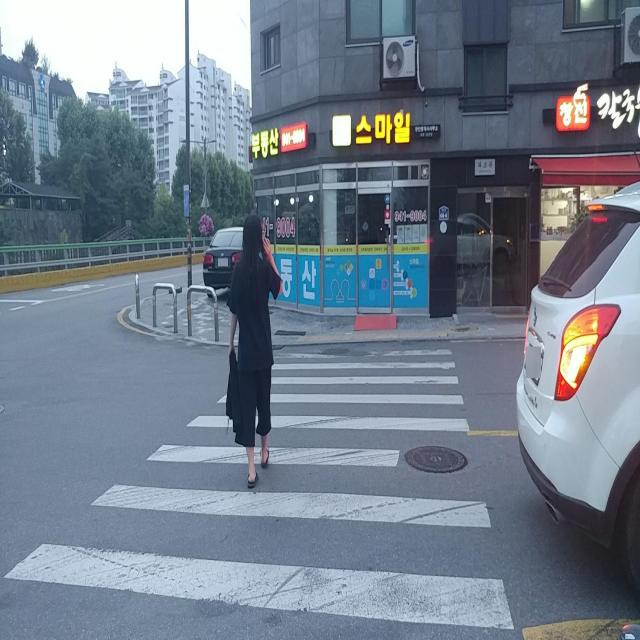횡단보도: (3, 351, 514, 634)
